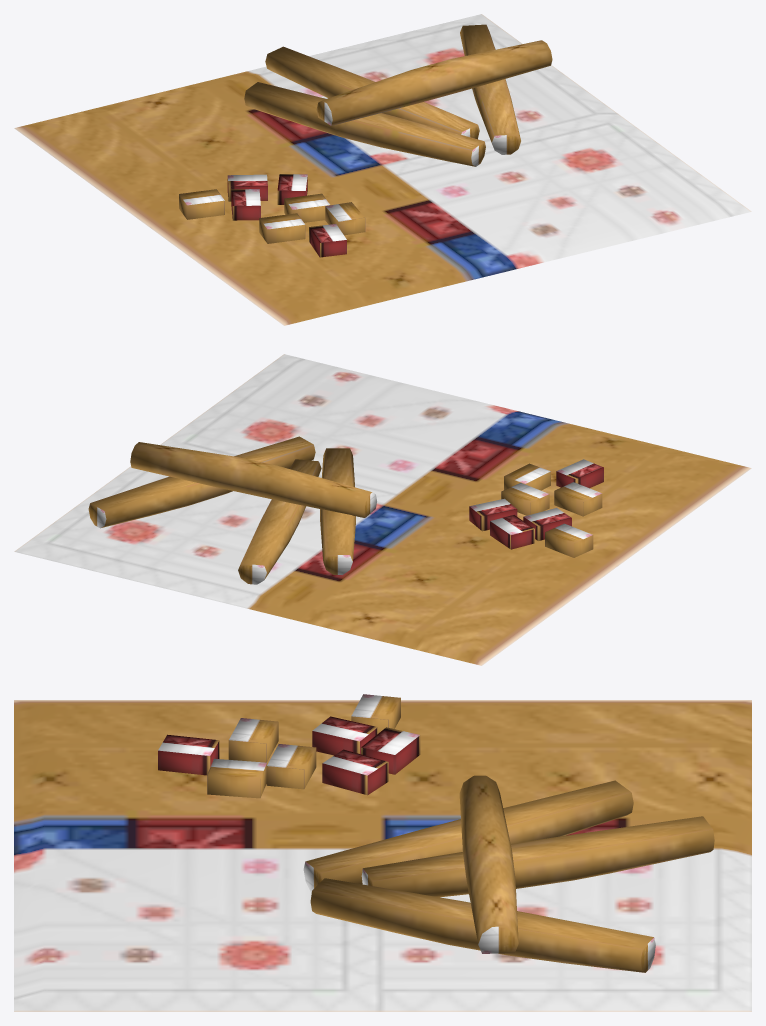
Rendered from int_oth_yutnori.dae.
The picture shows the model from 3 angles, top to bottom: view 1: azimuth 30°, elevation 25°; view 2: azimuth 150°, elevation 25°; view 3: azimuth 270°, elevation 25°; orthographic projection. The views are drawn at different scales.
Visible parts, largest first — view 1: int_oth_yutnori; view 2: int_oth_yutnori; view 3: int_oth_yutnori.
Boxes of the visible parts, x1=… form: int_oth_yutnori: x1=14, y1=14, x2=751, y2=325; int_oth_yutnori: x1=14, y1=354, x2=751, y2=665; int_oth_yutnori: x1=14, y1=694, x2=751, y2=1011.
Bounding box in the file's own units: 30 × 3.26 × 30.
1 material, 1 textured.
